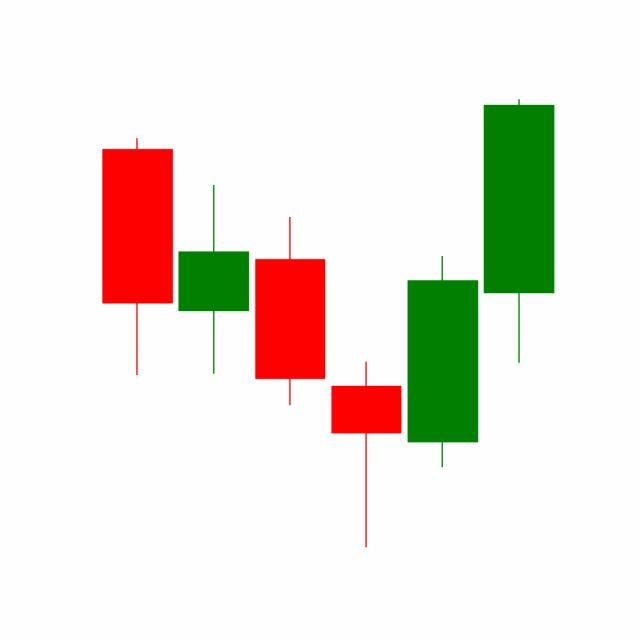Morning Star: (252, 212, 482, 548)
